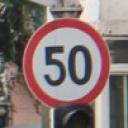speed_limit_50: (23, 19, 110, 110)
